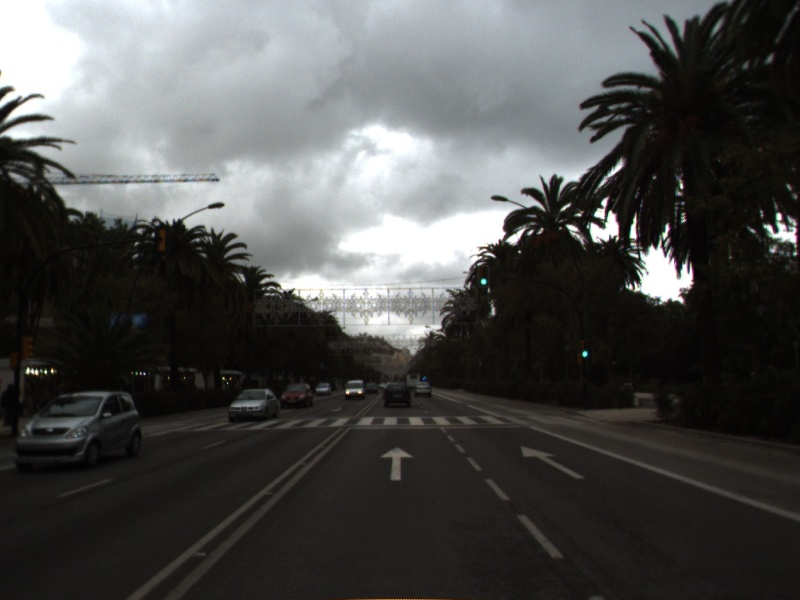STRAIGHT: (519, 444, 588, 481), (378, 444, 416, 482)
